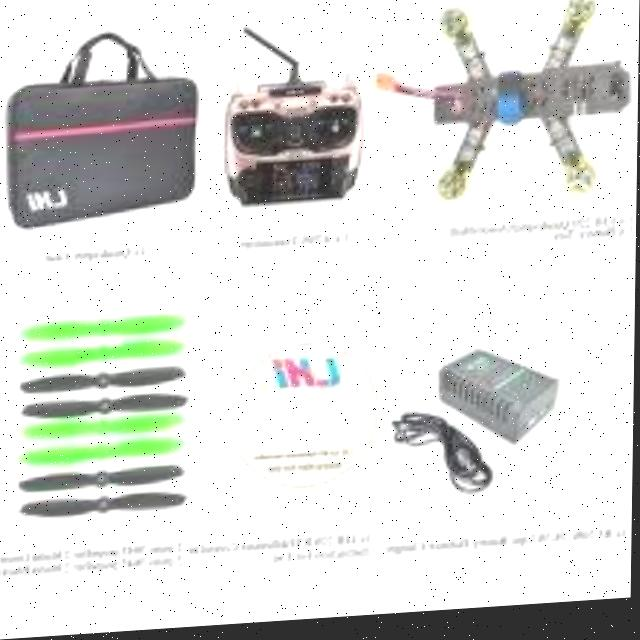drone: (379, 0, 640, 227)
